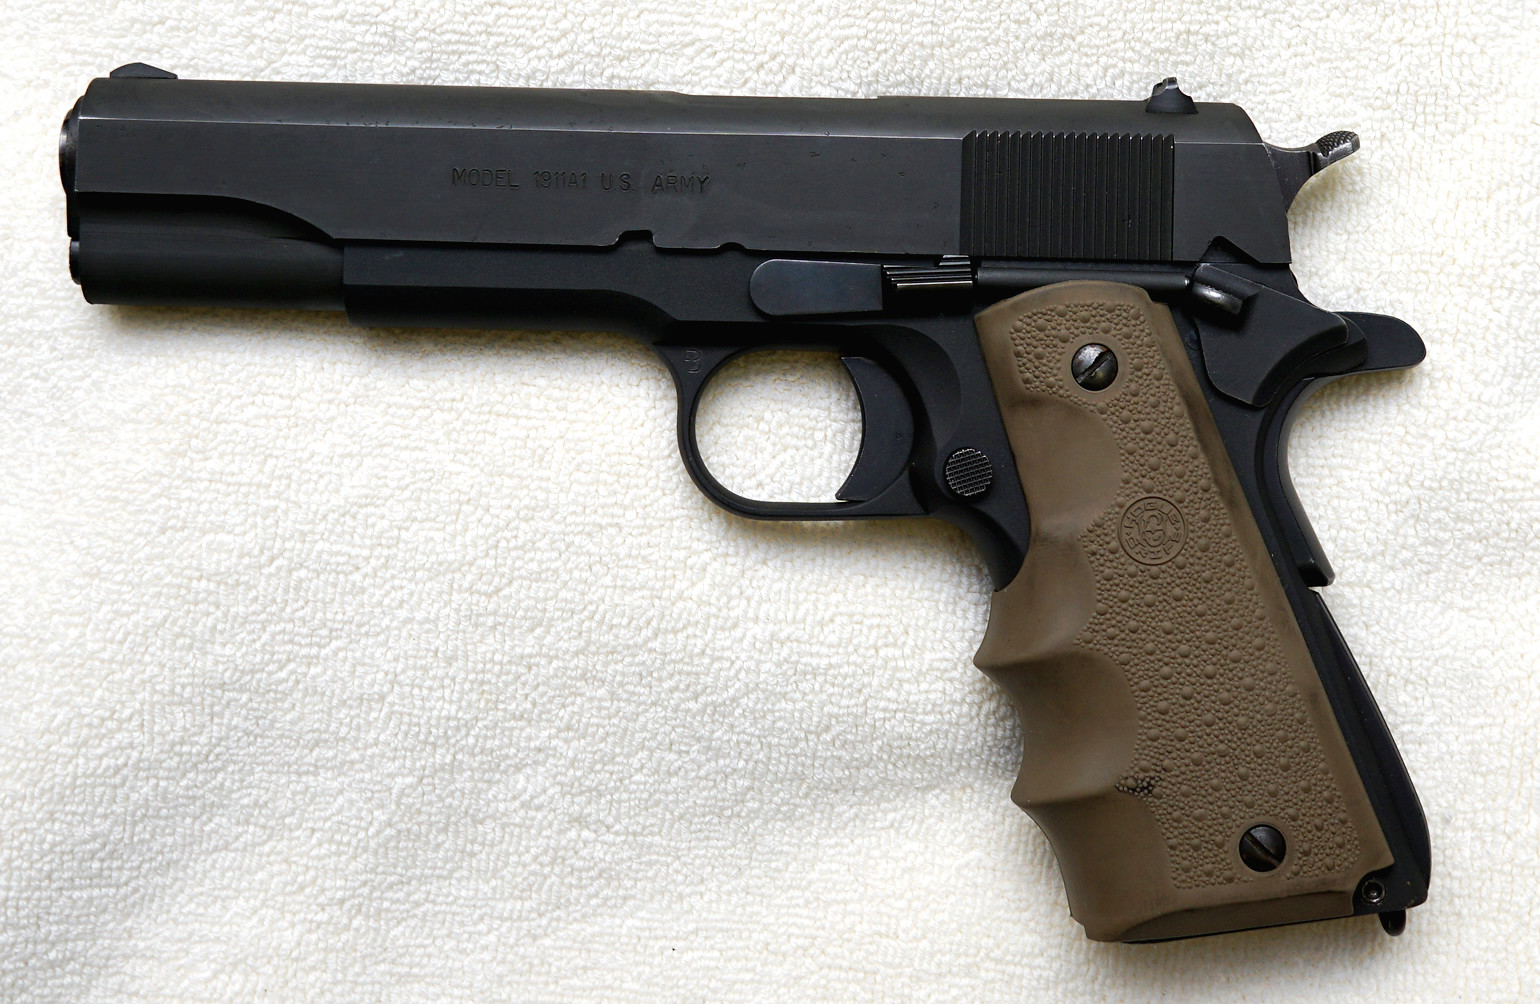gun: (42, 48, 1466, 957)
